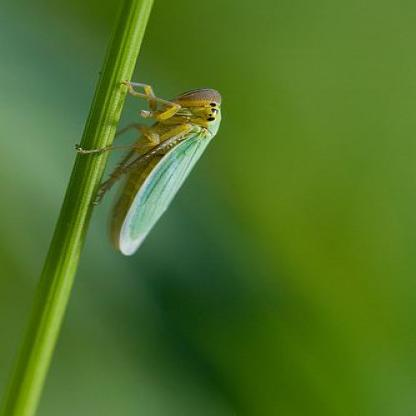Green-Leafhopper: (70, 75, 228, 257)
